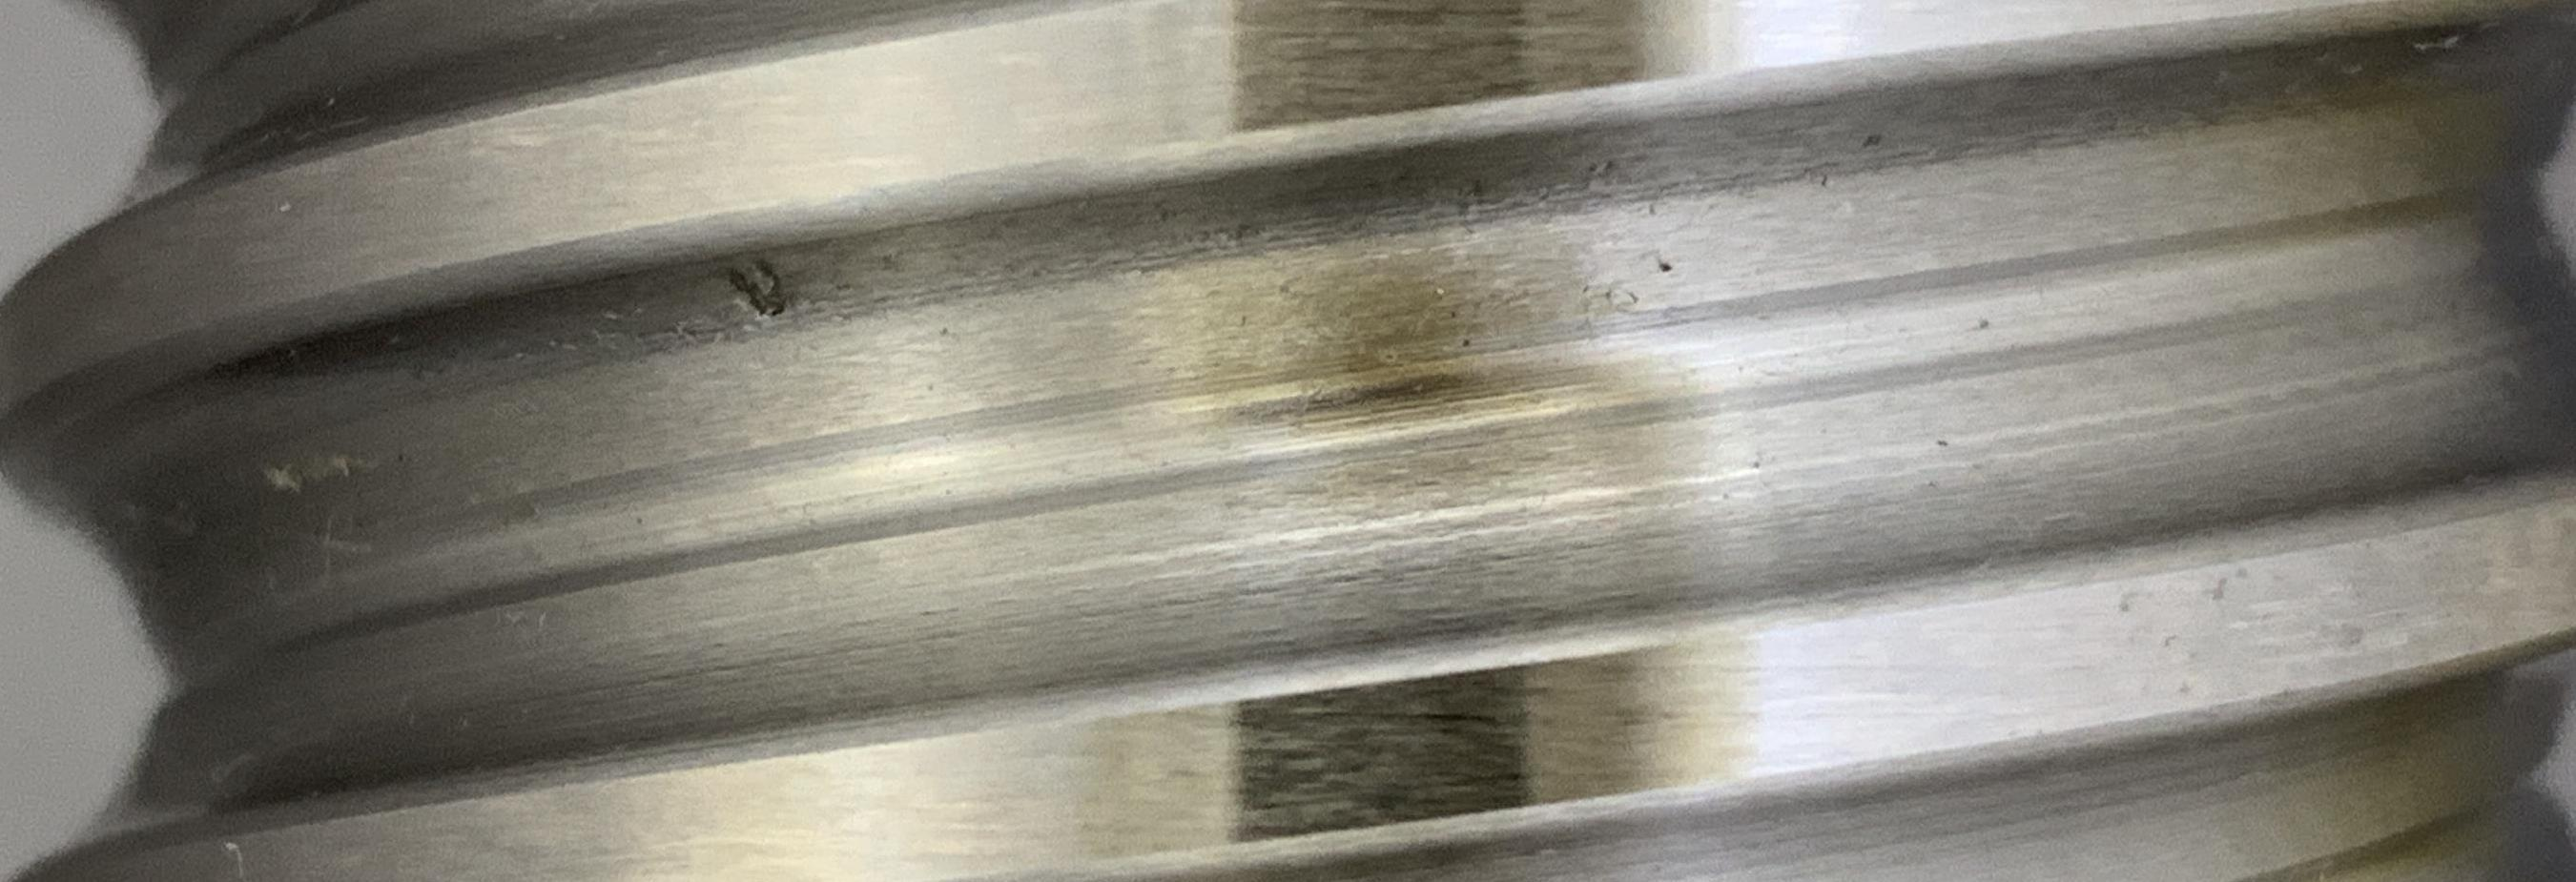pitting: (729, 260, 785, 317)
